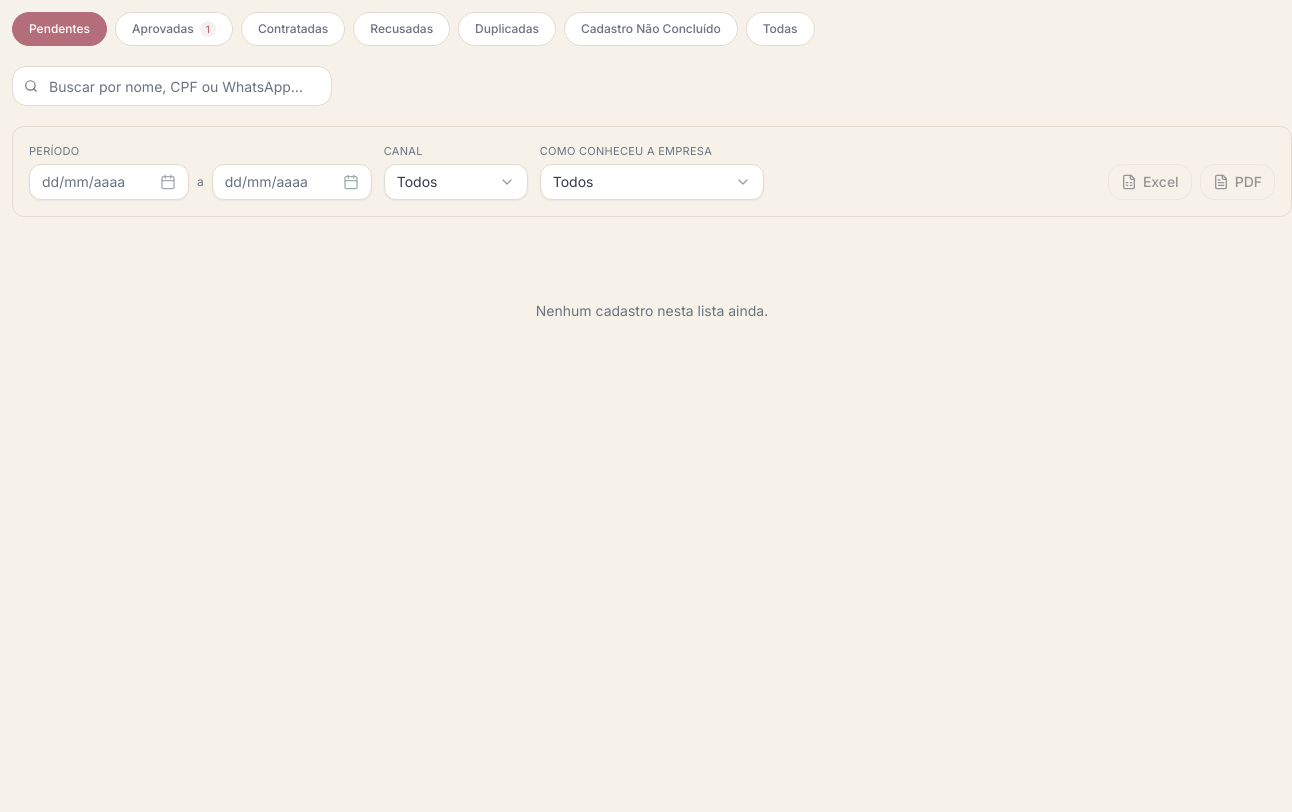
Test: Captação · respostas da candidata › mantém Contratar acessível por fora para candidatas aprovadas
Click the button "Aprovadas1" at (174, 29), box [115,12,233,46]
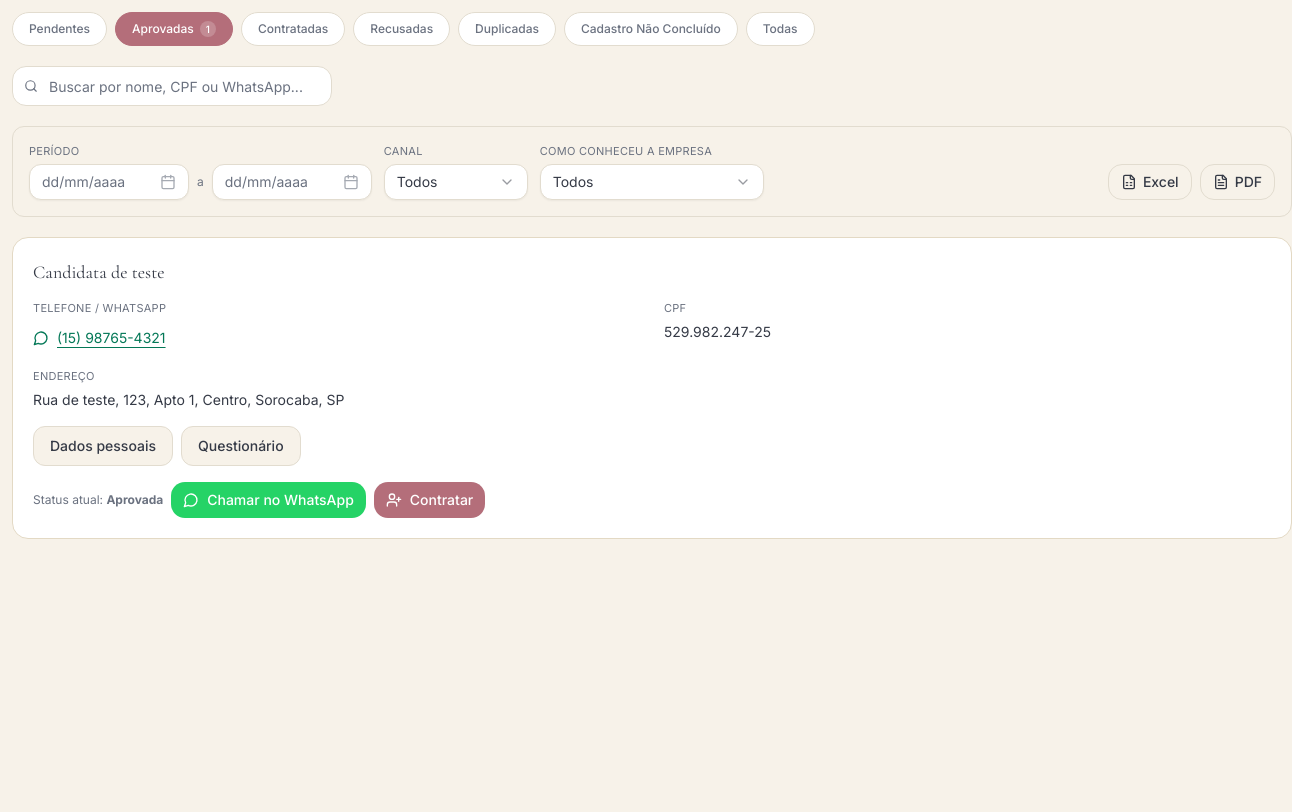
Result: the button "Contratar" is shown
Click the button "Contratar" at (430, 500), box [374,482,485,518]
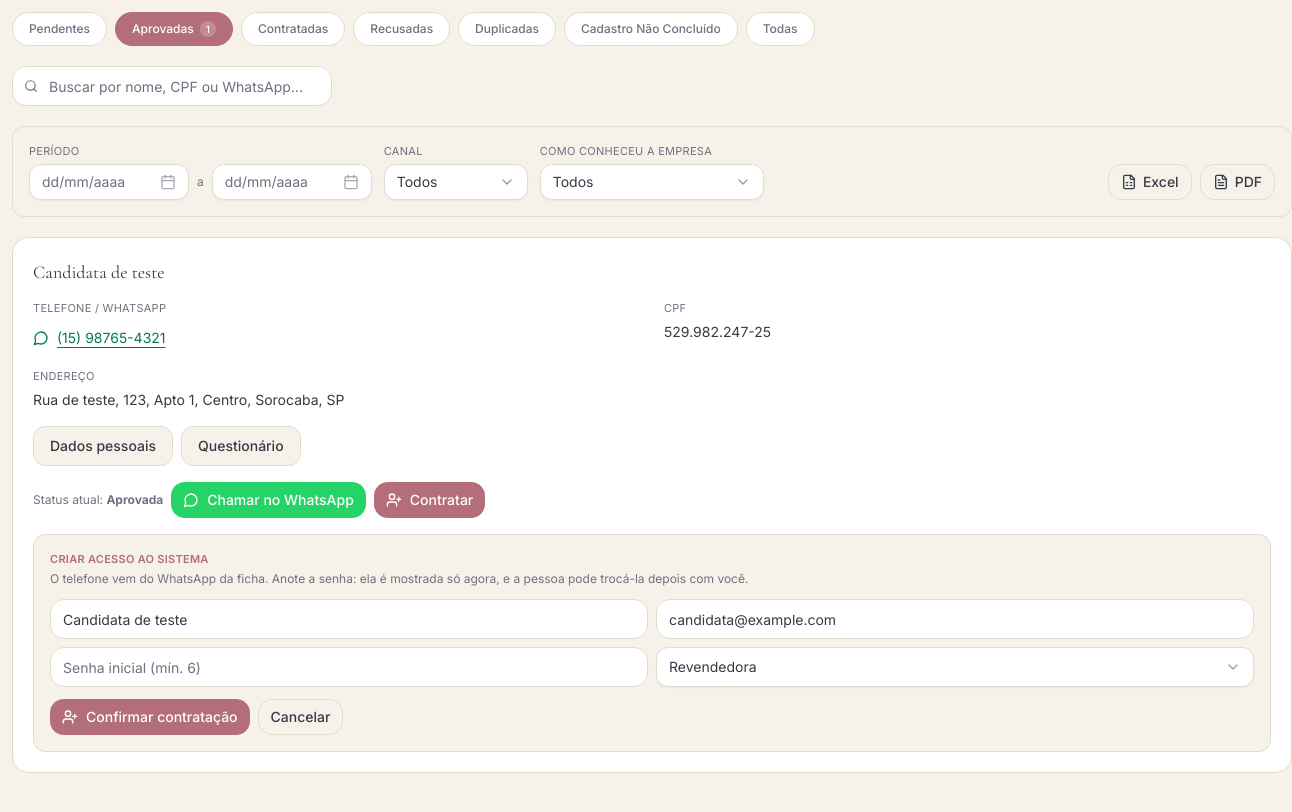
Result: the text "Criar acesso ao sistema" is shown at [50,552,209,566]
Result: the button "Confirmar contratação" is shown at [50,699,250,735]
